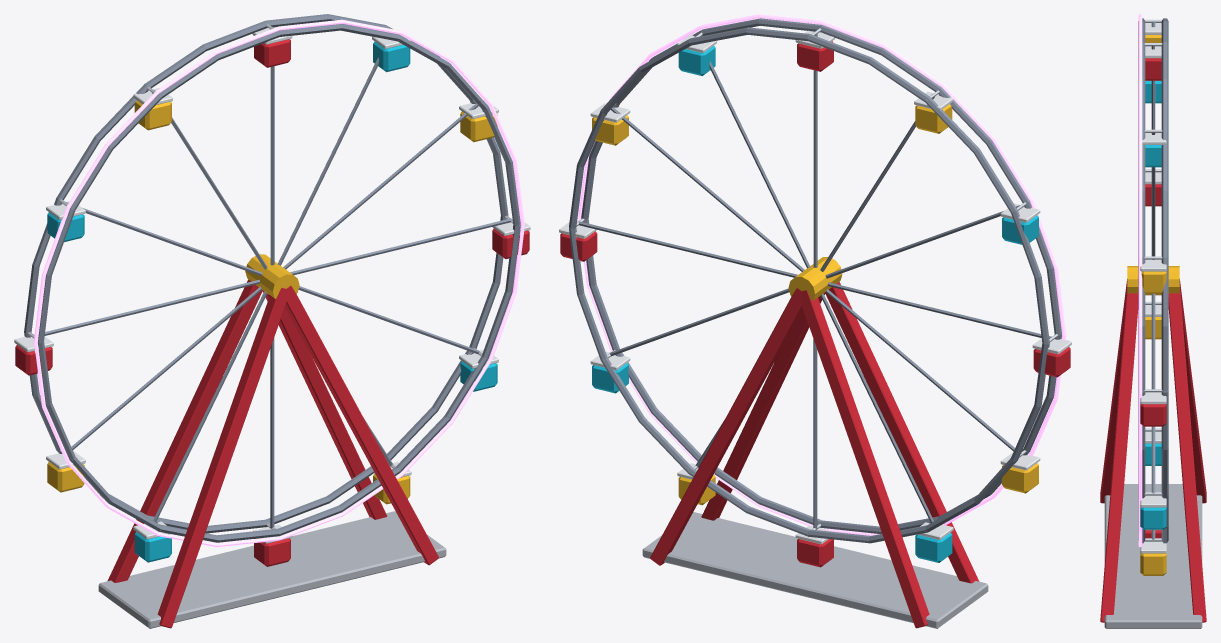
File: FerrisWheel.fbx
3 renders of one model, left to right at view 1: azimuth 30°, elevation 25°; view 2: azimuth 150°, elevation 25°; view 3: azimuth 270°, elevation 25°, orthographic. The views are drawn at different scales.
Visible parts, largest first — view 1: FerrisWheel, Neon_Pink; view 2: FerrisWheel, Neon_Pink; view 3: FerrisWheel, Neon_Pink.
Boxes of the visible parts, <box> form: FerrisWheel: <box>14,14,530,628</box>; Neon_Pink: <box>33,19,524,546</box>; FerrisWheel: <box>559,18,1071,628</box>; Neon_Pink: <box>578,14,1066,535</box>; FerrisWheel: <box>1100,18,1206,628</box>; Neon_Pink: <box>1138,14,1142,547</box>.
Size of the model in its own units: 33.8 by 35.62 by 6.55.
2 materials, 1 textured.
